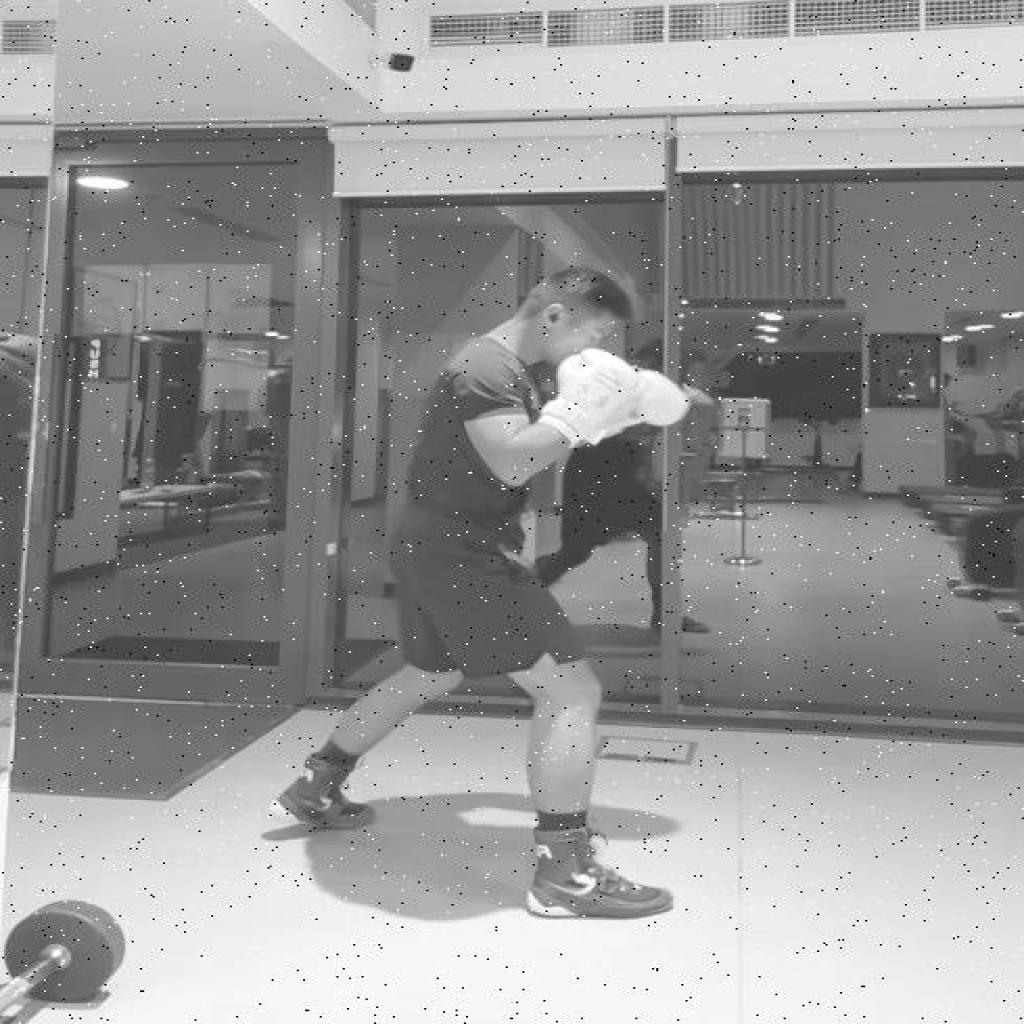no punch: (267, 262, 694, 922)
